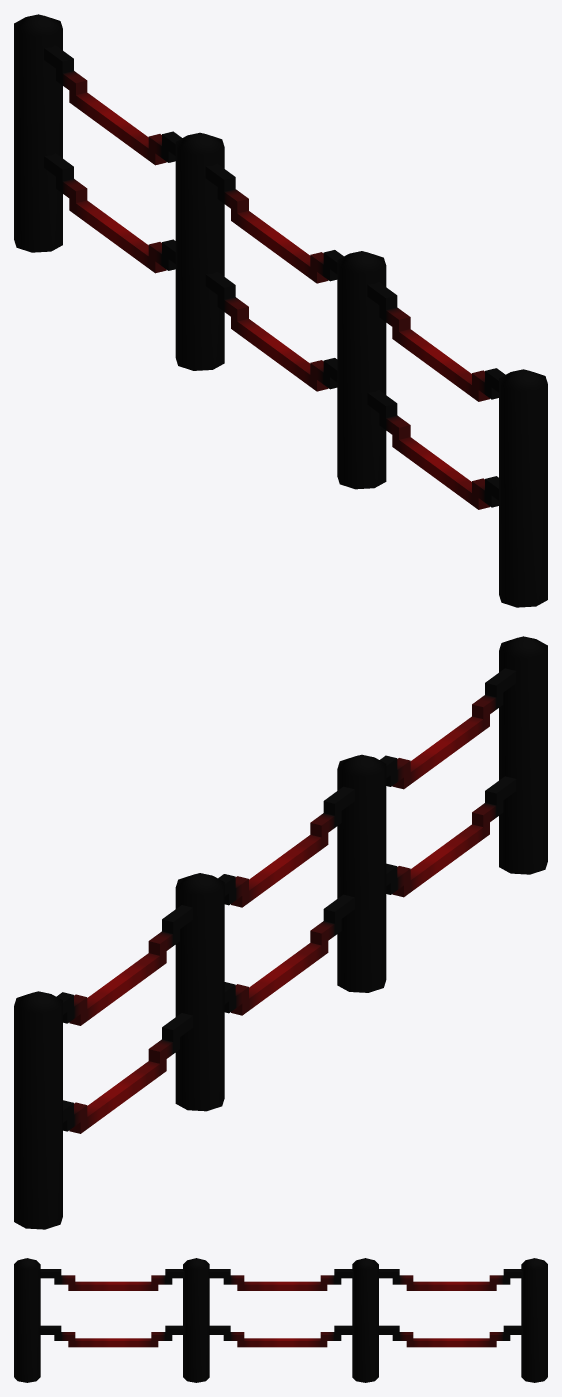
The model's file is Co_BPI_Fence_Rope_A_300.gltf.
3 renders of one model, top to bottom at view 1: azimuth 30°, elevation 25°; view 2: azimuth 150°, elevation 25°; view 3: azimuth 270°, elevation 25°, orthographic. The views are drawn at different scales.
Parts seen in each view (by area): view 1: Co_BPI_Fence_Rope_A_300; view 2: Co_BPI_Fence_Rope_A_300; view 3: Co_BPI_Fence_Rope_A_300.
Boxes of the visible parts, left/top/right/bottom form: Co_BPI_Fence_Rope_A_300: left=14, top=14, right=547, bottom=607; Co_BPI_Fence_Rope_A_300: left=14, top=636, right=547, bottom=1229; Co_BPI_Fence_Rope_A_300: left=14, top=1258, right=547, bottom=1382.
Size of the model in its own units: 0.24 by 1.19 by 4.82.
